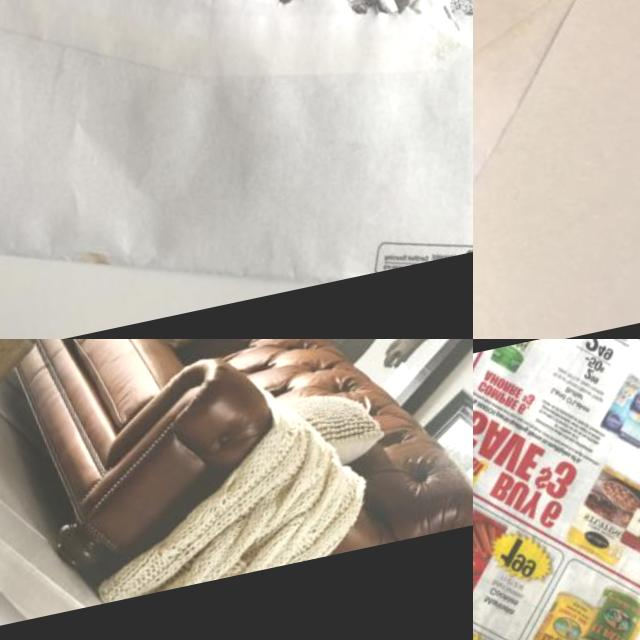papel: (0, 0, 473, 339), (0, 339, 473, 636), (473, 0, 638, 339), (473, 339, 640, 640)
